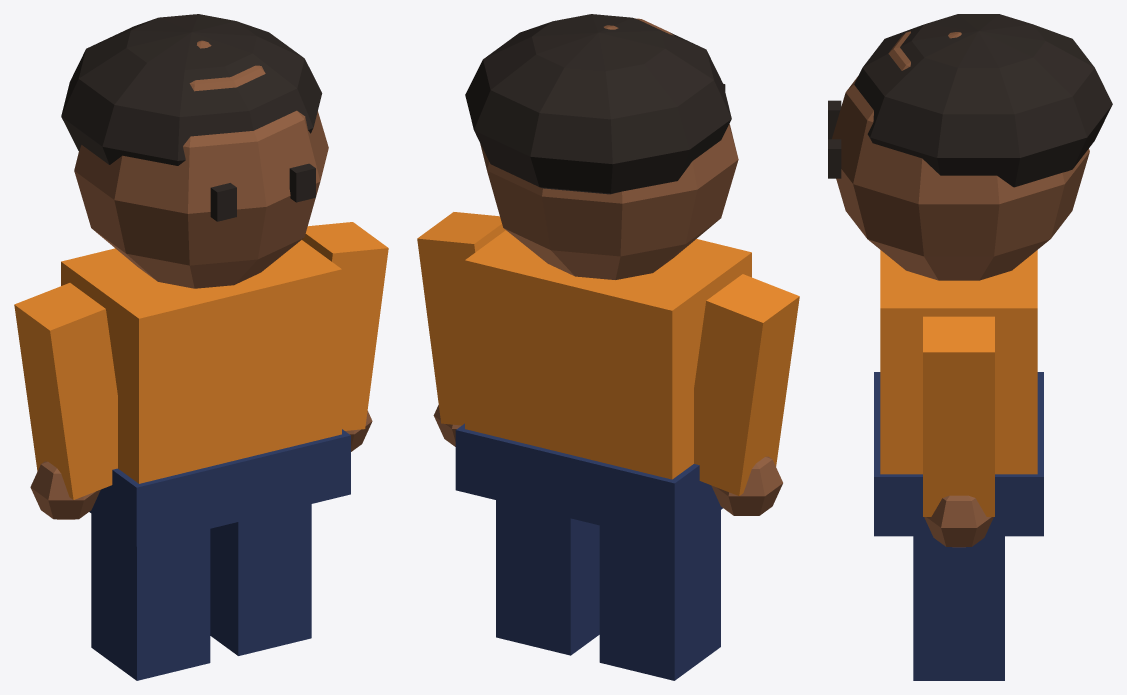
The model's file is chotu.glb.
3 views of the same model, side by side, from view 1: azimuth 30°, elevation 25°; view 2: azimuth 150°, elevation 25°; view 3: azimuth 270°, elevation 25° (orthographic). The views are drawn at different scales.
Visible parts, largest first — view 1: chotu; view 2: chotu; view 3: chotu.
Boxes of the visible parts, x1,y1,x2,y2 form: chotu: (14,14,388,680); chotu: (417,14,799,680); chotu: (828,14,1112,680).
Bounding box in the file's own units: 0.4806 × 0.8184 × 0.348.
Materials: 1 (1 with a texture image).
